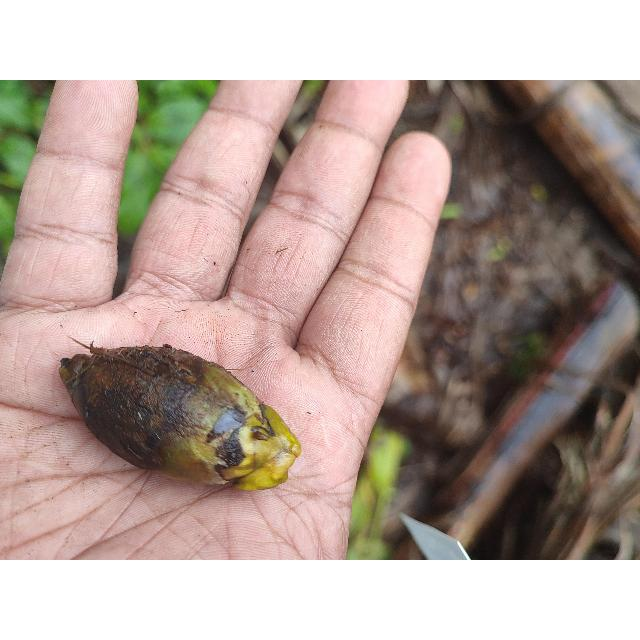damaged: (56, 344, 304, 493)
